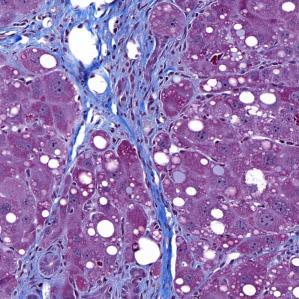fibrosis: (98, 11, 175, 128)
